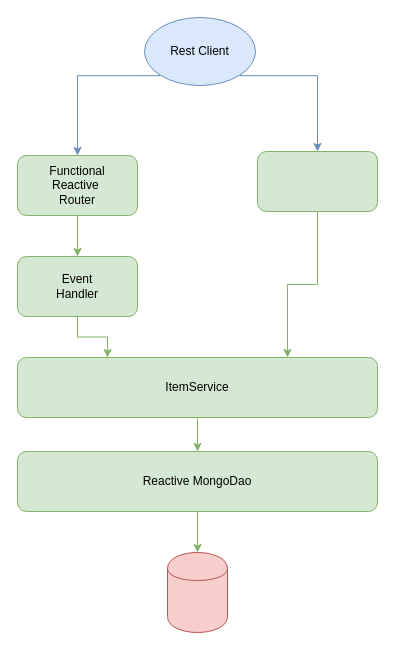
Image size: 395x650. Some labels were removed from this diagram. Here are the shapes that lost their labels. From the top down, the box of each, then its label:
(256, 150, 378, 212): Imperative Reactive Controller
(166, 552, 228, 632): Mongo
